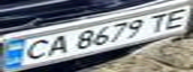6: (90, 25, 115, 48)
7: (109, 20, 133, 44)
8: (75, 27, 96, 52)
9: (124, 16, 151, 39)
A: (39, 33, 72, 58)
C: (9, 36, 54, 63)
E: (157, 7, 193, 30)
T: (145, 10, 175, 34)
